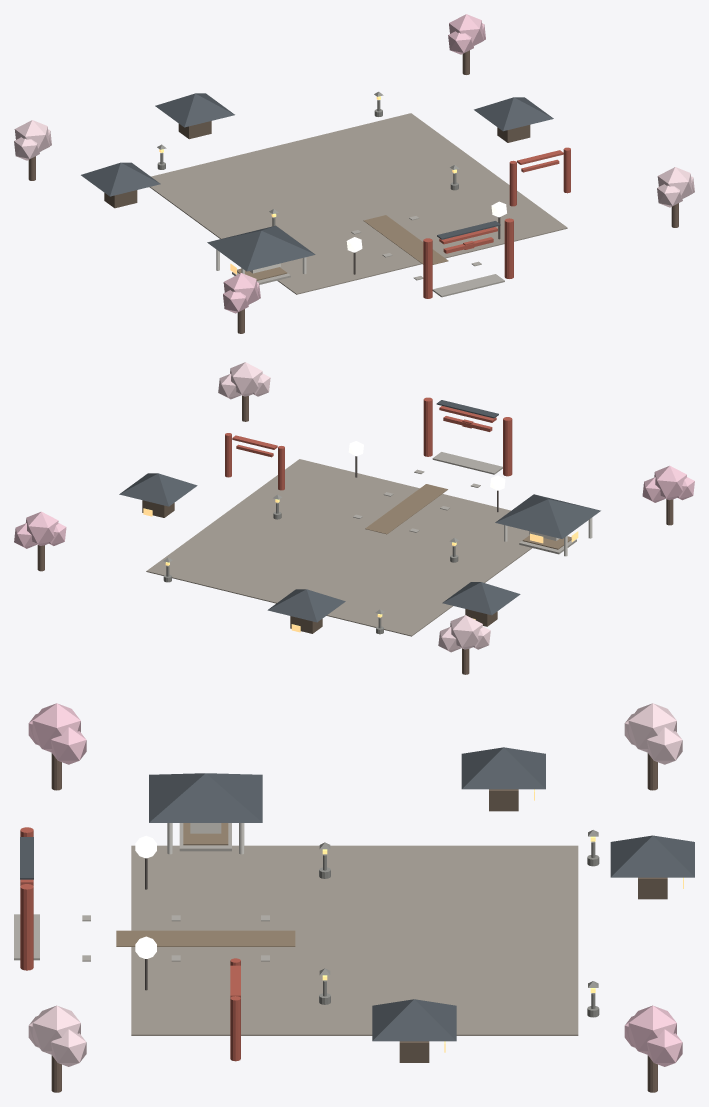
The model's file is temple.glb.
3 views of the same model, one above another, from view 1: azimuth 30°, elevation 25°; view 2: azimuth 150°, elevation 25°; view 3: azimuth 270°, elevation 25° (orthographic). The views are drawn at different scales.
Parts seen in each view (by area): view 1: ground, shrineRoof, houseRoof0, houseRoof2, houseRoof1, path, toriiBase, canopy0a, canopy1a, canopy2a, canopy3a, toriiPillar-1 (+1 smaller); view 2: ground, shrineRoof, houseRoof1, houseRoof2, houseRoof0, path, canopy0a, canopy2a, canopy1a, canopy3a, toriiBase, toriiPillar1 (+1 smaller); view 3: ground, shrineRoof, houseRoof1, houseRoof0, houseRoof2, path, canopy0a, canopy1a, canopy3a, canopy2a, toriiPillar1, canopy3b (+10 smaller).
Boxes of the visible parts, box(x1,y1,x2,y2) form: ground: box(149, 113, 567, 294); shrineRoof: box(207, 225, 315, 271); houseRoof0: box(81, 162, 160, 196); houseRoof2: box(155, 93, 234, 127); houseRoof1: box(474, 97, 553, 131); path: box(363, 215, 448, 264); toriiBase: box(432, 274, 504, 297); canopy0a: box(223, 273, 258, 304); canopy1a: box(657, 167, 692, 198); canopy2a: box(14, 120, 49, 151); canopy3a: box(449, 14, 483, 45); toriiPillar-1: box(423, 238, 432, 298); ground: box(146, 459, 532, 636); shrineRoof: box(495, 494, 600, 538); houseRoof1: box(119, 473, 197, 506); houseRoof2: box(267, 589, 345, 622); houseRoof0: box(442, 582, 520, 615); path: box(365, 484, 447, 534); canopy0a: box(654, 465, 686, 500); canopy2a: box(450, 615, 482, 649); canopy1a: box(230, 362, 262, 396); canopy3a: box(26, 511, 58, 545); toriiBase: box(432, 452, 502, 474); toriiPillar1: box(423, 397, 432, 456); ground: box(131, 845, 578, 1035); shrineRoof: box(149, 773, 262, 822); houseRoof1: box(372, 999, 456, 1041); houseRoof0: box(461, 747, 545, 789); houseRoof2: box(610, 835, 694, 877); path: box(116, 930, 295, 946); canopy0a: box(32, 703, 80, 752); canopy1a: box(32, 1005, 80, 1054); canopy3a: box(628, 1005, 676, 1054); canopy2a: box(628, 703, 676, 752); toriiPillar1: box(20, 884, 33, 970); canopy3b: box(647, 1029, 682, 1066).
Bounding box in the file's own units: 52.7 × 6.45 × 45.7.
